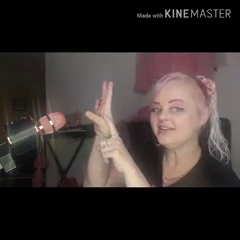Y: (85, 78, 135, 172)
